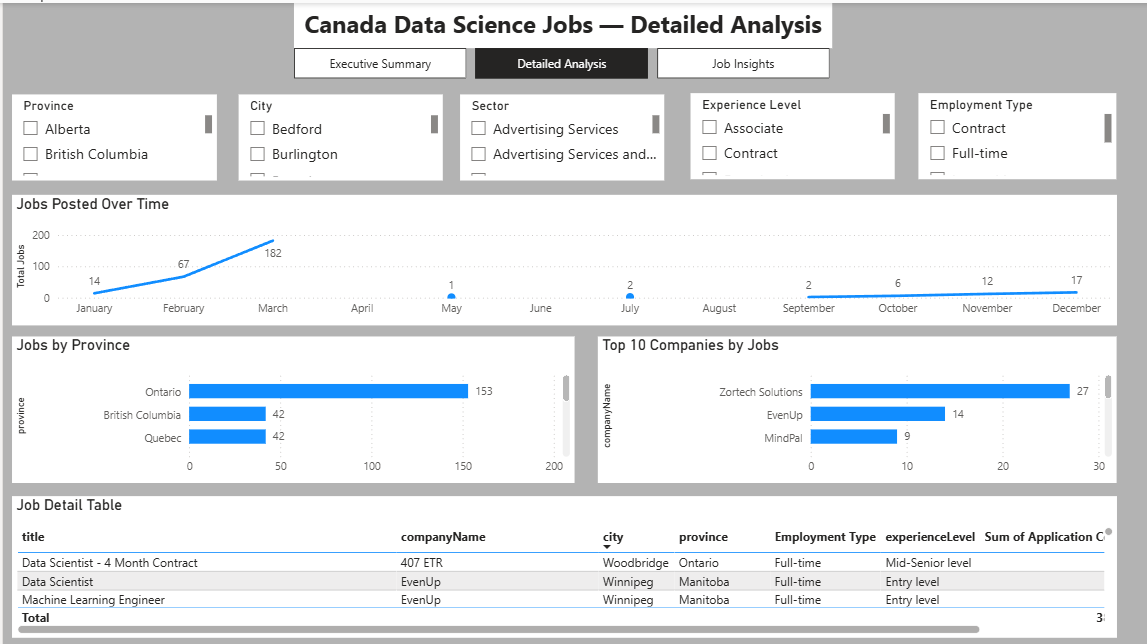

This screenshot's page, from the dashboard's own definition file:
{"tool":"powerbi","page":{"name":"Detailed Analysis","canvas":[1280,720],"ordinal":1},"visuals":[{"type":"slicer","fields":{"Values":["Dim_Location.province"]},"box":[10.1,102.2,228.9,96],"z":0},{"type":"slicer","fields":{"Values":["Dim_Experience.experienceLevel"]},"box":[768.6,101.4,228,96.5],"z":1},{"type":"slicer","fields":{"Values":["Dim_Employment.Employment Type"]},"box":[1024.3,101.4,221,96.5],"z":2},{"type":"slicer","fields":{"Values":["Dim_Location.city"]},"box":[263.5,102.2,228,96.5],"z":3},{"type":"slicer","fields":{"Values":["Dim_Sector.sector"]},"box":[511.4,102.9,228,96],"z":4},{"type":"lineChart","title":"Jobs Posted Over Time","fields":{"Category":["Dim_Date.Month Name"],"Y":["Fact_Jobs.Total Jobs"]},"box":[10,214.3,1235.7,145.7],"z":5},{"type":"clusteredBarChart","title":"Top 10 Companies by Jobs","fields":{"Category":["Dim_Company.companyName"],"Y":["Fact_Jobs.Total Jobs"]},"box":[665.7,372.9,580.3,164.1],"z":6},{"type":"clusteredBarChart","title":"Jobs by Province","fields":{"Category":["Dim_Location.province"],"Y":["Fact_Jobs.Total Jobs"]},"box":[10.1,372.9,629.2,164.1],"z":7},{"type":"tableEx","title":"Job Detail Table","fields":{"Values":["Fact_Jobs.title","Fact_Jobs.companyName","Fact_Jobs.city","Dim_Location.province","Dim_Employment.Employment Type","Dim_Experience.experienceLevel","Sum(Fact_Jobs.Application Count)","Fact_Jobs.publishedAt.Variation.Date Hierarchy.Year"]},"box":[10,551.4,1235.7,158.6],"z":8},{"type":"textbox","box":[325.4,0,601.9,50.4],"z":9},{"type":"pageNavigator","box":[325.4,50.4,601.9,34.6],"z":10}]}

Visuals, with their boxes in screenshot pixels (x1, y1, x2, y2), scaled from the page's 1280x720 canvas onto the 1147x644 screenshot:
slicer - Dim_Location.province: (9, 91, 214, 177)
slicer - Dim_Experience.experienceLevel: (689, 91, 893, 177)
slicer - Dim_Employment.Employment Type: (918, 91, 1116, 177)
slicer - Dim_Location.city: (236, 91, 440, 178)
slicer - Dim_Sector.sector: (458, 92, 663, 178)
"Jobs Posted Over Time" lineChart: (9, 192, 1116, 322)
"Top 10 Companies by Jobs" clusteredBarChart: (597, 334, 1117, 480)
"Jobs by Province" clusteredBarChart: (9, 334, 573, 480)
"Job Detail Table" tableEx: (9, 493, 1116, 635)
textbox: (292, 0, 831, 45)
pageNavigator: (292, 45, 831, 76)
